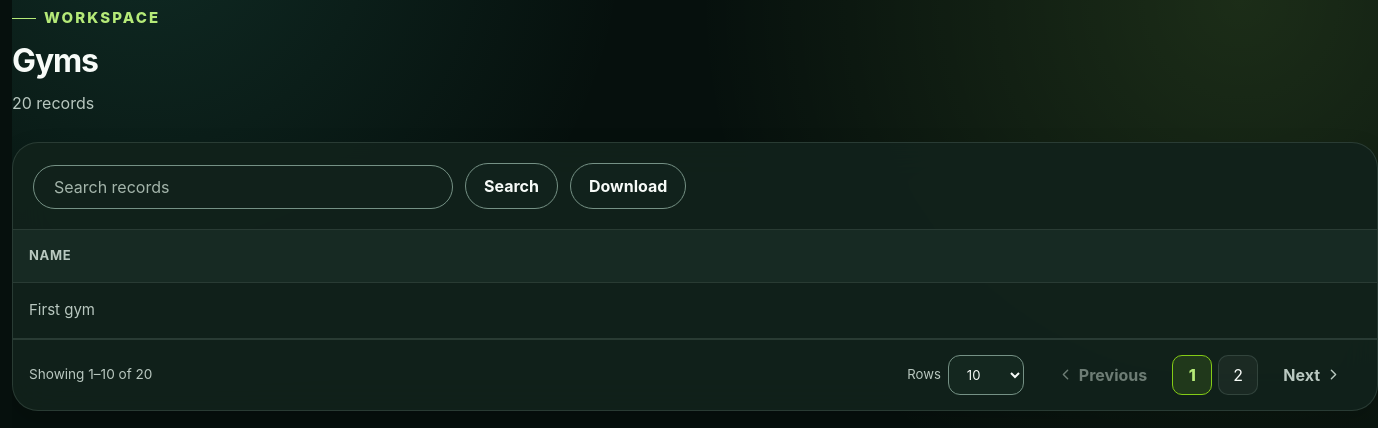
Test: fetches the next database page and renders returned records
The image size is (1378, 428).
Click the button "Next" at (1313, 375), box x1=1264 y1=352 x2=1361 y2=398
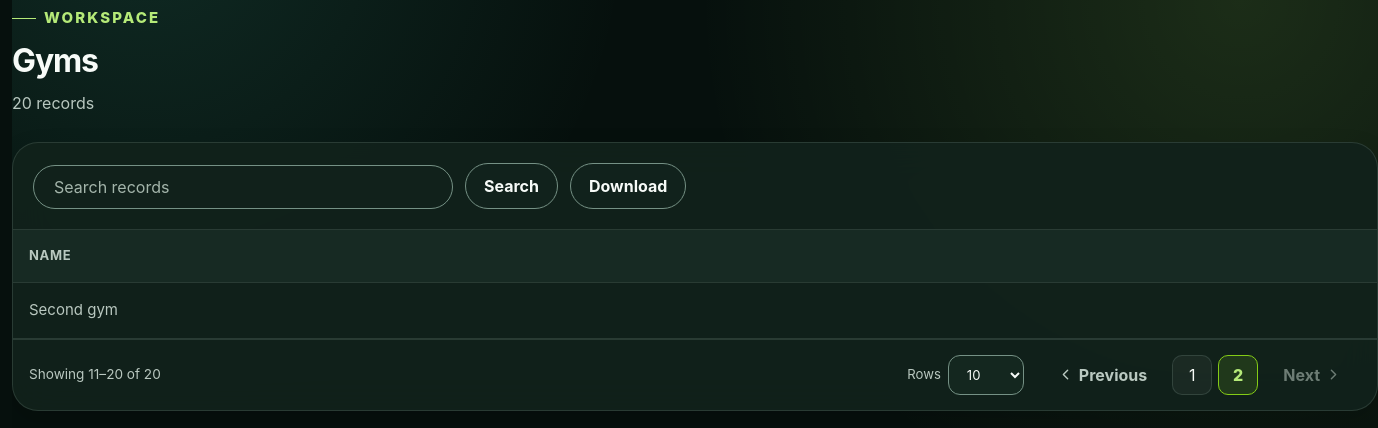
Now the text "Second gym" is shown, box x1=13 y1=282 x2=1377 y2=338
Now the text "First gym" is gone
